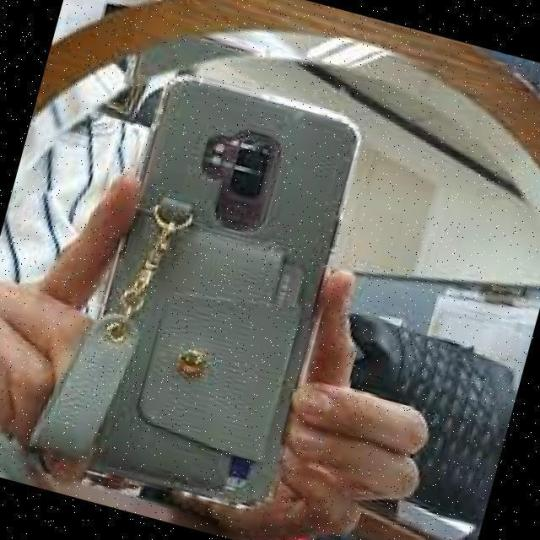phone: (78, 52, 364, 495)
